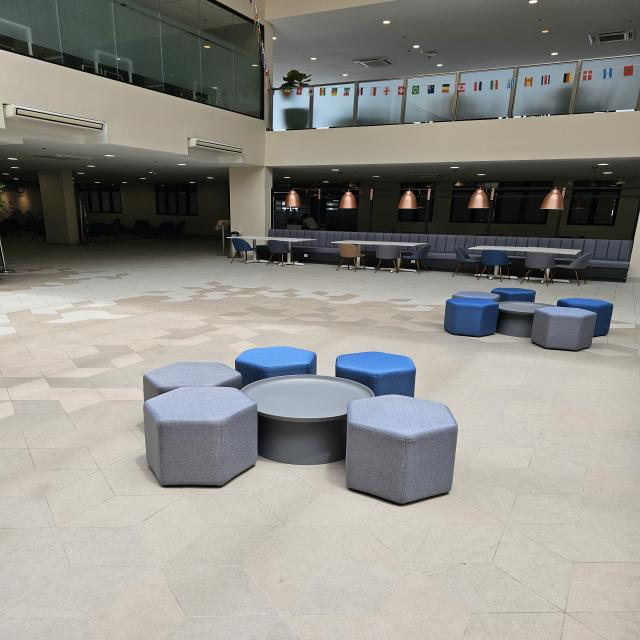footpath: (5, 511, 640, 640)
obstacle: (120, 342, 465, 502), (442, 287, 619, 349)
